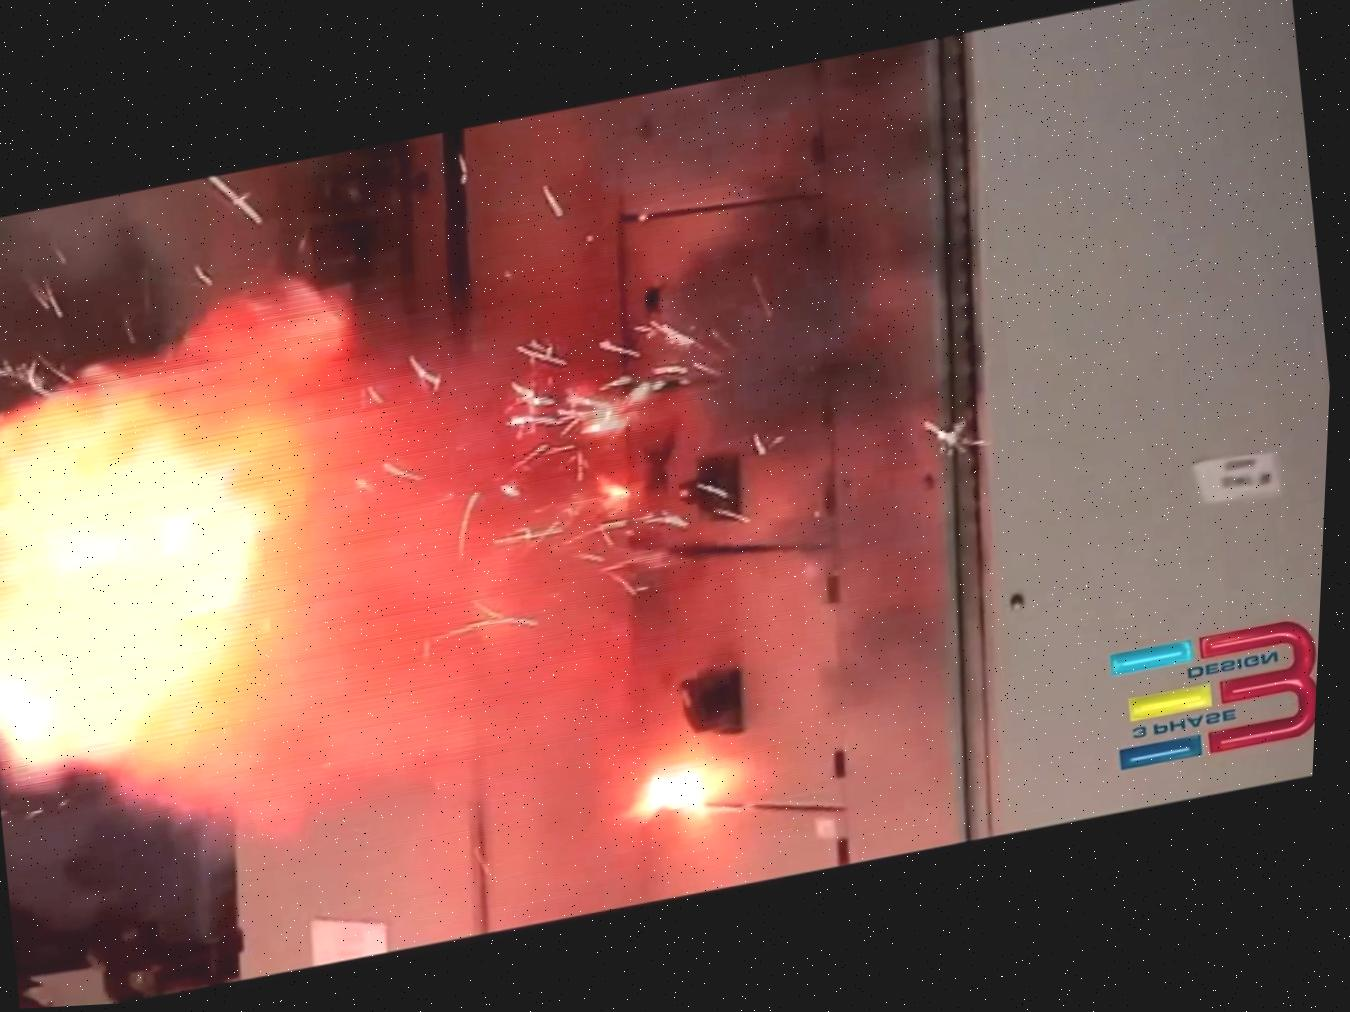fire: (1, 164, 840, 903)
